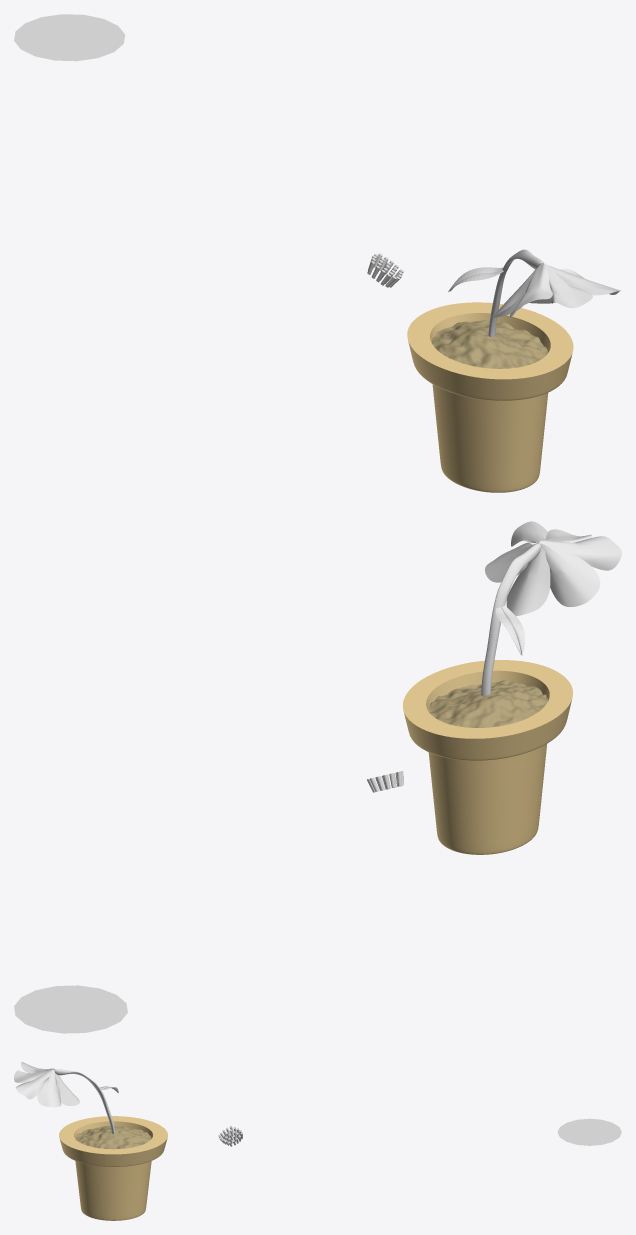
Rendered from flor seca (1).fbx.
The picture shows the model from 3 angles, top to bottom: view 1: azimuth 30°, elevation 25°; view 2: azimuth 150°, elevation 25°; view 3: azimuth 270°, elevation 25°; orthographic projection. The views are drawn at different scales.
Parts seen in each view (by area): view 1: Vaso 1, Circle, Terra, Circle.004, Cube, buracos.001; view 2: Vaso 1, Circle.004, Circle, Terra, Cube, Folha.006; view 3: Vaso 1, Circle.004, Circle, Terra, Cube, buracos.001.
Boxes of the visible parts, x1,y1,x2,y2 form: Vaso 1: (407,302,573,492); Circle: (14,14,125,61); Terra: (431,320,548,368); Circle.004: (491,263,621,317); Cube: (488,249,543,336); buracos.001: (367,253,403,287); Vaso 1: (402,660,572,854); Circle.004: (485,521,621,616); Circle: (14,985,127,1033); Terra: (428,680,547,727); Cube: (481,543,541,696); Folha.006: (495,605,524,655); Vaso 1: (59,1116,167,1220); Circle.004: (14,1062,79,1107); Circle: (557,1118,621,1145); Terra: (75,1125,151,1149); Cube: (54,1069,115,1134); buracos.001: (218,1125,242,1146).
Size of the model in its own units: 362 by 621 by 2426.
